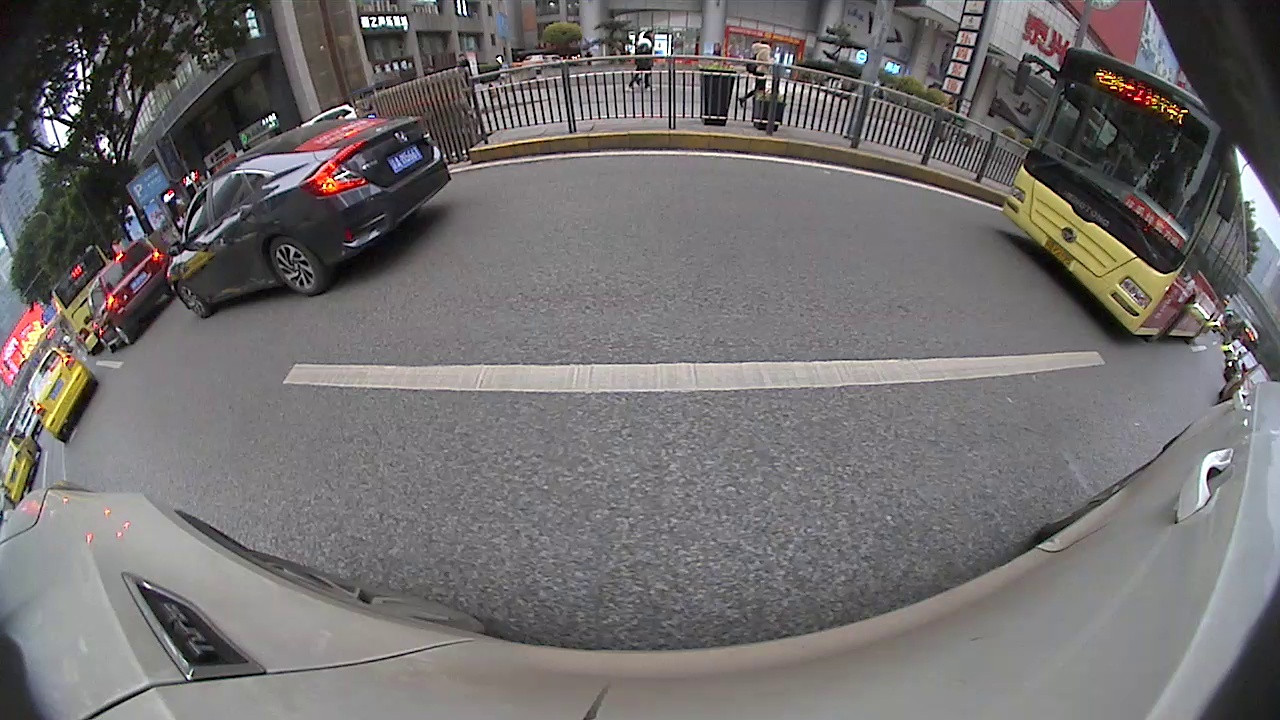bus: (1002, 44, 1248, 345), (51, 243, 110, 353)
car: (167, 115, 453, 321), (98, 235, 172, 345), (24, 347, 98, 443), (0, 432, 39, 509), (1217, 363, 1270, 408), (288, 103, 360, 131), (87, 273, 109, 345), (1221, 351, 1259, 382)
front: (176, 286, 214, 322)
person: (754, 38, 770, 99), (639, 31, 652, 87)
rear: (266, 239, 331, 299)
